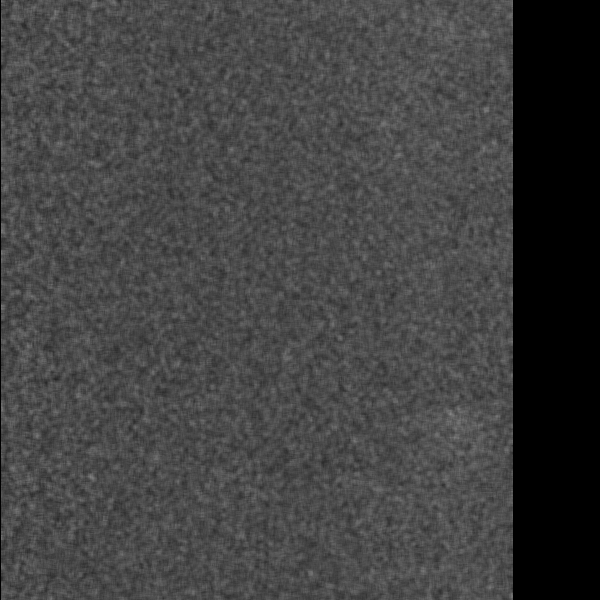spark: (447, 405, 462, 428)
